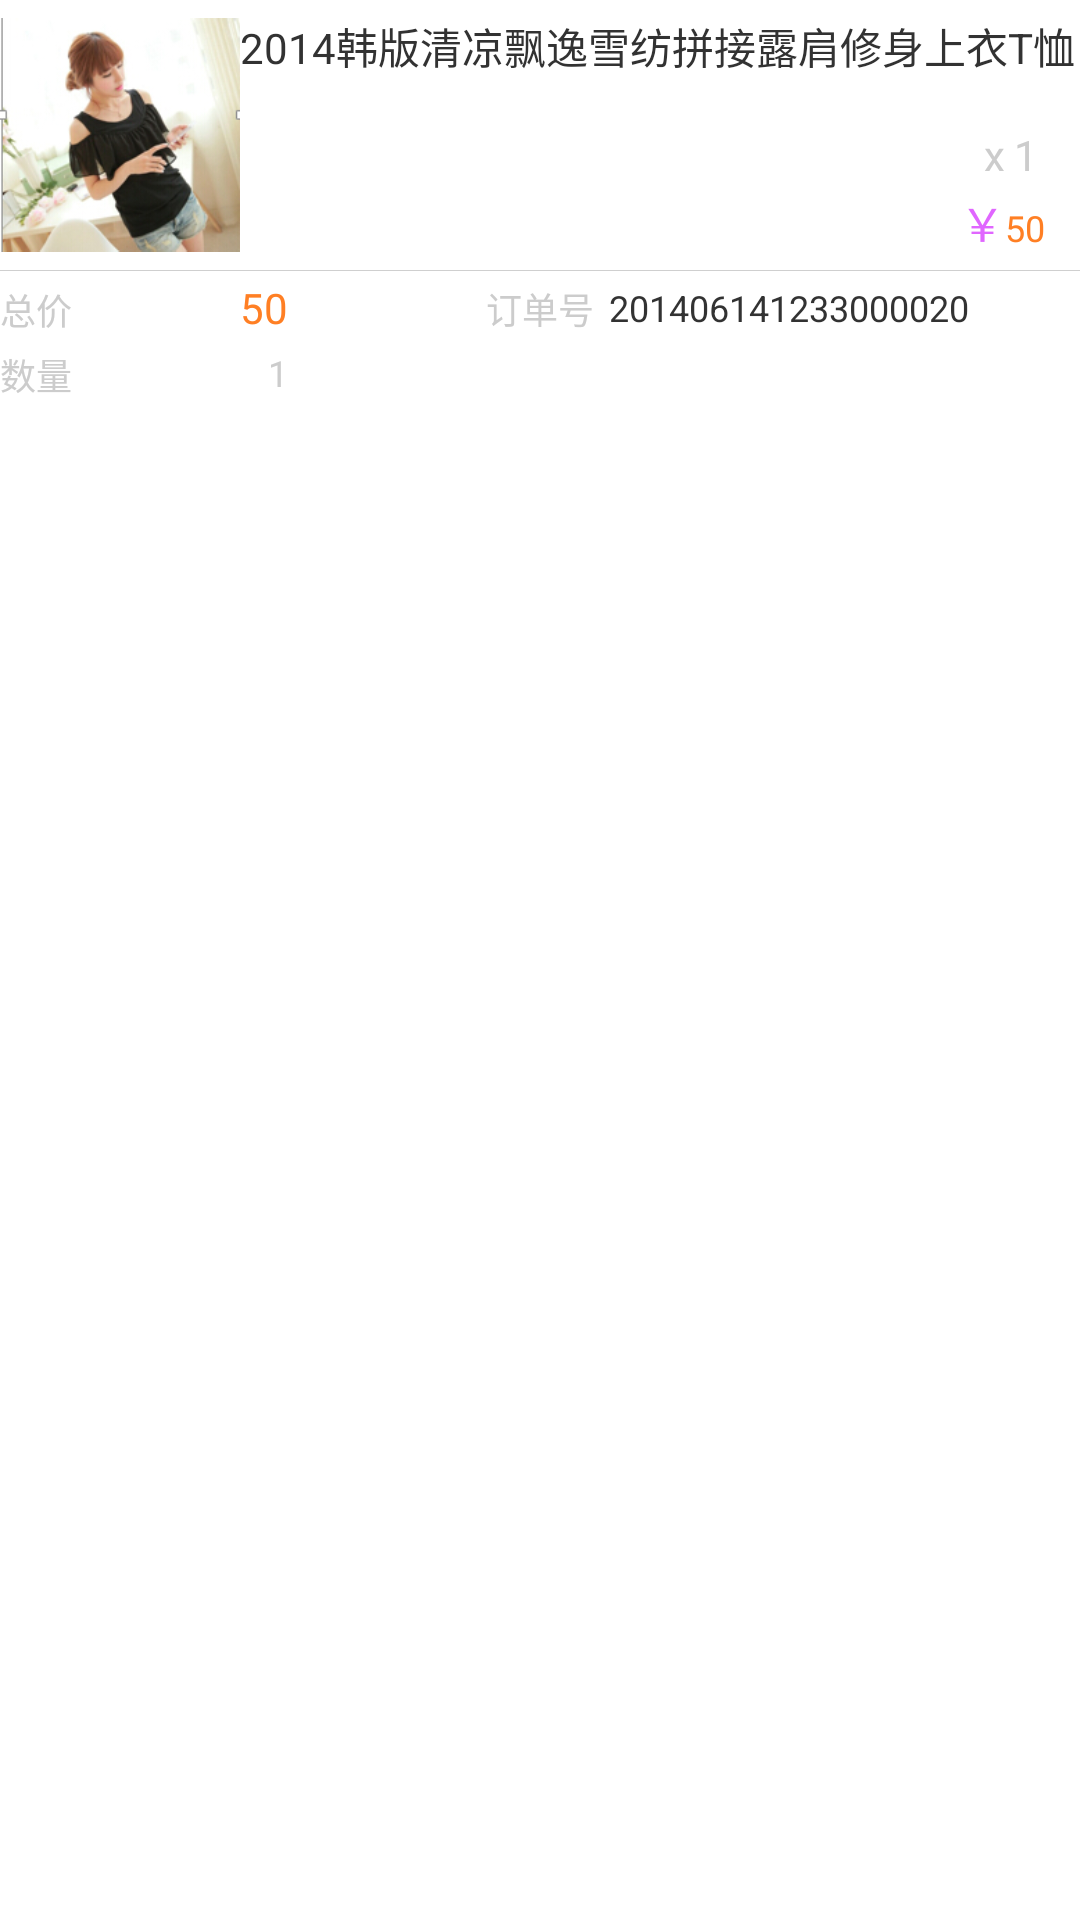

Screen size 1080*1920. Icon name, then its center in pixels as [x,y]:
shirt: [120,135]
